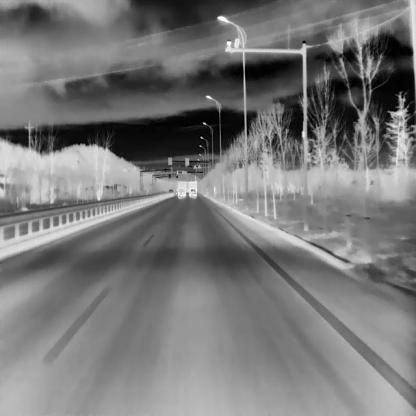car: (176, 188, 184, 197), (188, 188, 196, 197)
truck: (188, 180, 197, 195), (178, 180, 186, 194)
